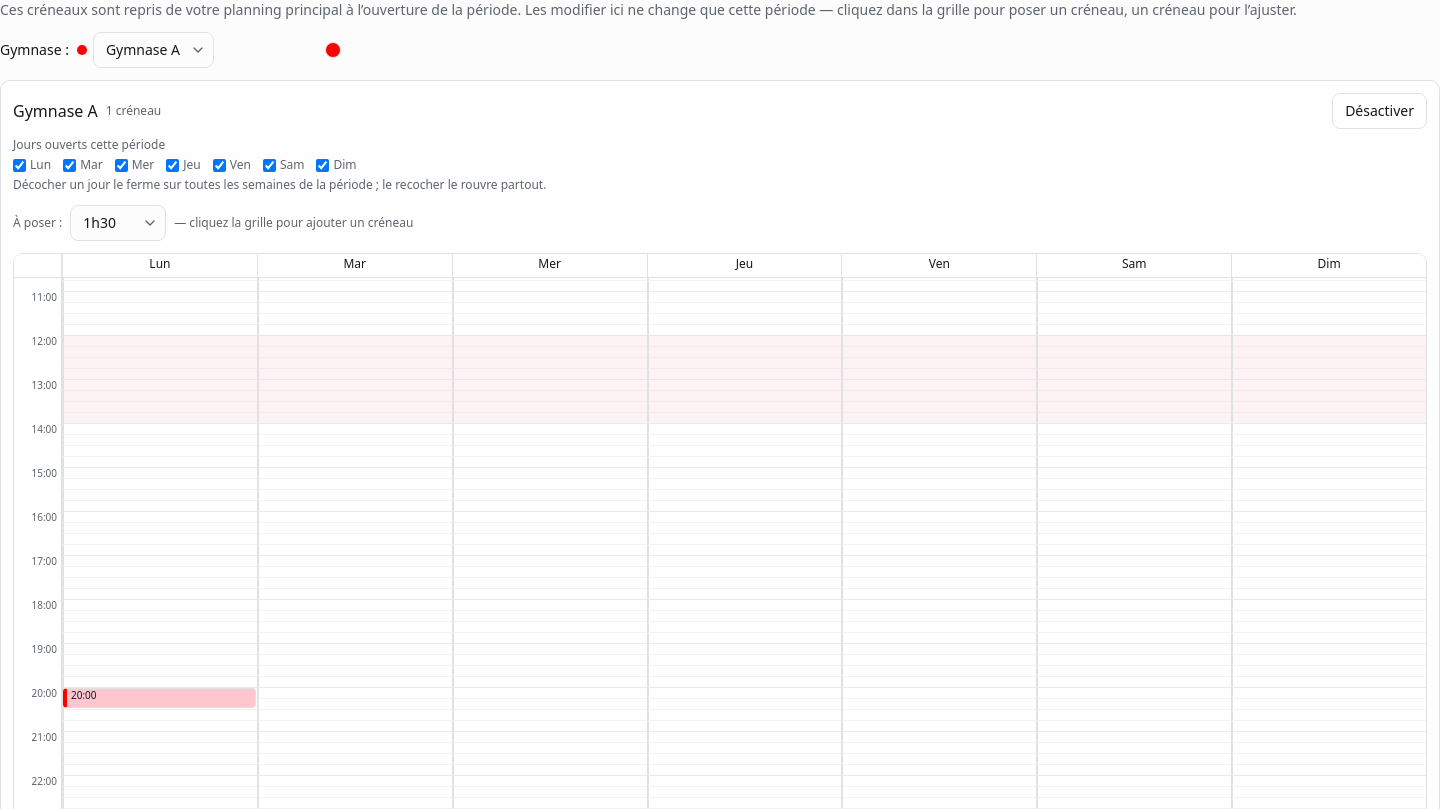
it: PeriodVenues — la grille de la période, gymnase par gymnase › affiche la durée COURANTE d'un créneau même absente de la liste proposée
(page scrolled)
What coordinates should you click on to do the following:
click the button titled "20:00 · Lun 30 min · capacité 1 — modifier"
I would click on:
 (159, 698)
Its box is [63,688,256,708].
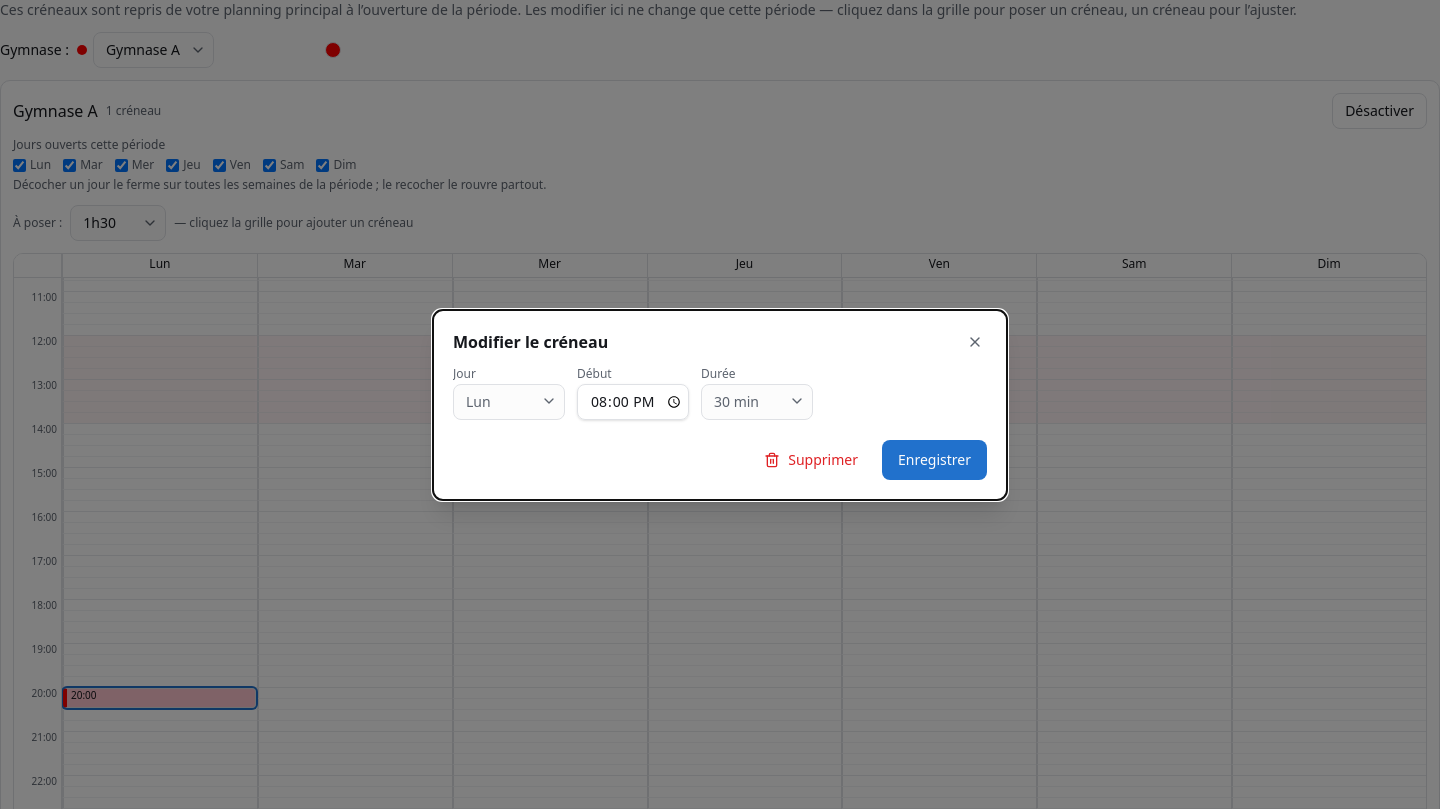
Now the dropdown labelled "Durée" shows "30 min", box [701,384,813,420]
